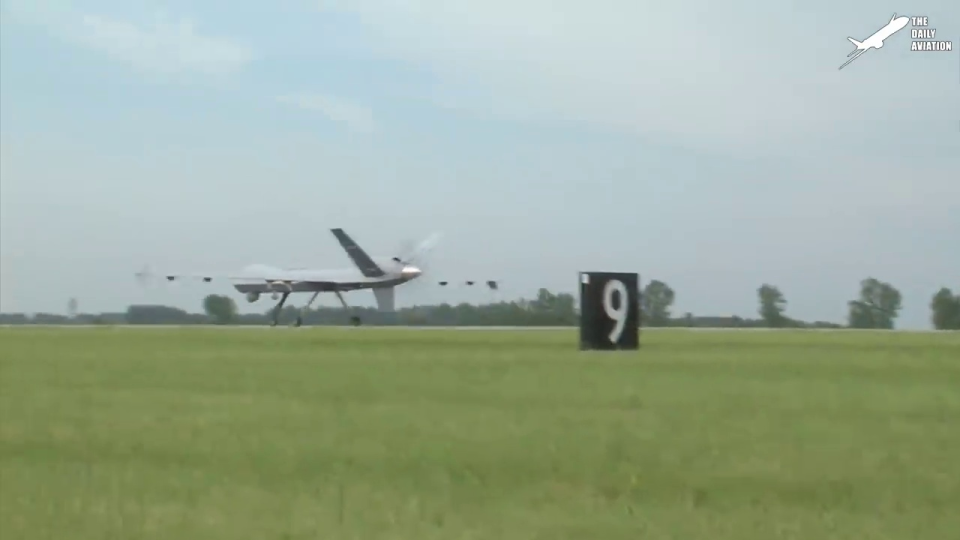military drone: (134, 227, 509, 326)
